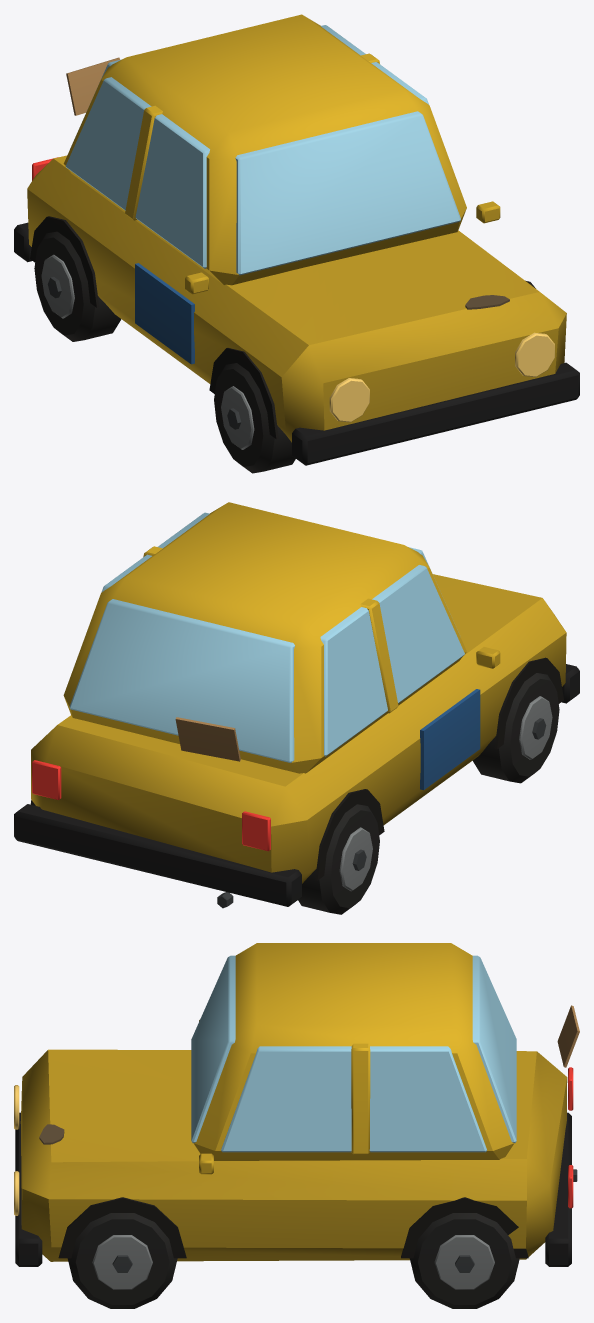
The model's file is 19_citadine.fbx.
The picture shows the model from 3 angles, top to bottom: view 1: azimuth 30°, elevation 25°; view 2: azimuth 150°, elevation 25°; view 3: azimuth 270°, elevation 25°; orthographic projection. The views are drawn at different scales.
Visible parts, largest first — view 1: Carrosserie, Vitres, Roue_ArD, Roue_AvD, Phares; view 2: Carrosserie, Vitres, Roue_AvD, Roue_ArD, FeuxArriere; view 3: Carrosserie, Vitres, Roue_AvG, Roue_ArG, Phares, FeuxArriere.
Part boxes in pixels (x1,y1,x2,y2): Carrosserie: (14, 14, 579, 465); Vitres: (65, 25, 460, 275); Roue_ArD: (34, 231, 121, 341); Roue_AvD: (214, 363, 295, 473); Phares: (329, 332, 554, 422); Carrosserie: (14, 502, 579, 908); Vitres: (69, 512, 464, 762); Roue_AvD: (472, 673, 559, 783); Roue_ArD: (298, 804, 379, 914); FeuxArriere: (32, 760, 270, 851); Carrosserie: (15, 943, 579, 1266); Vitres: (191, 955, 516, 1152); Roue_AvG: (67, 1213, 177, 1308); Roue_ArG: (409, 1213, 519, 1308); Phares: (14, 1085, 19, 1215); FeuxArriere: (568, 1067, 573, 1208).
Size of the model in its own units: 1.4 by 1.18 by 2.32.
1 material, 1 textured.
